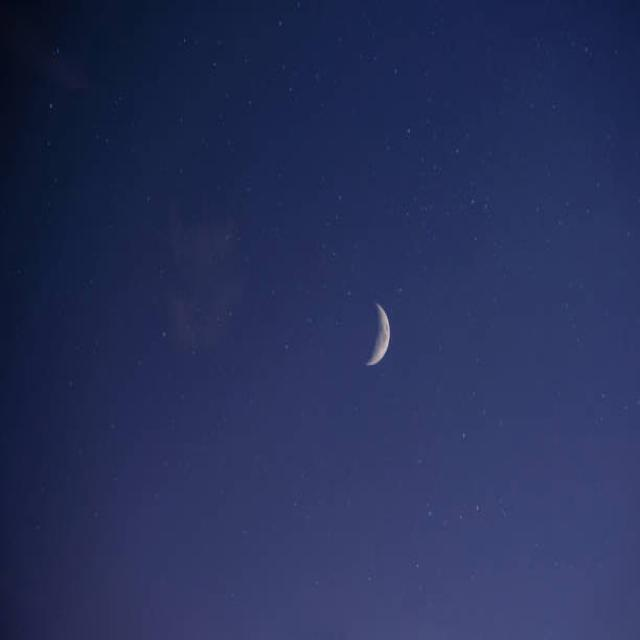moon: (344, 301, 391, 361)
